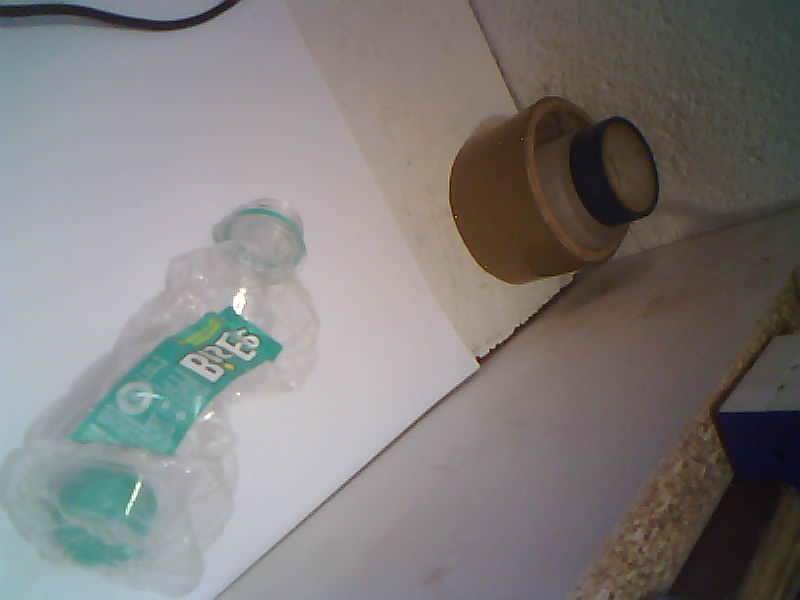non-biodegradable: (0, 204, 318, 595)
